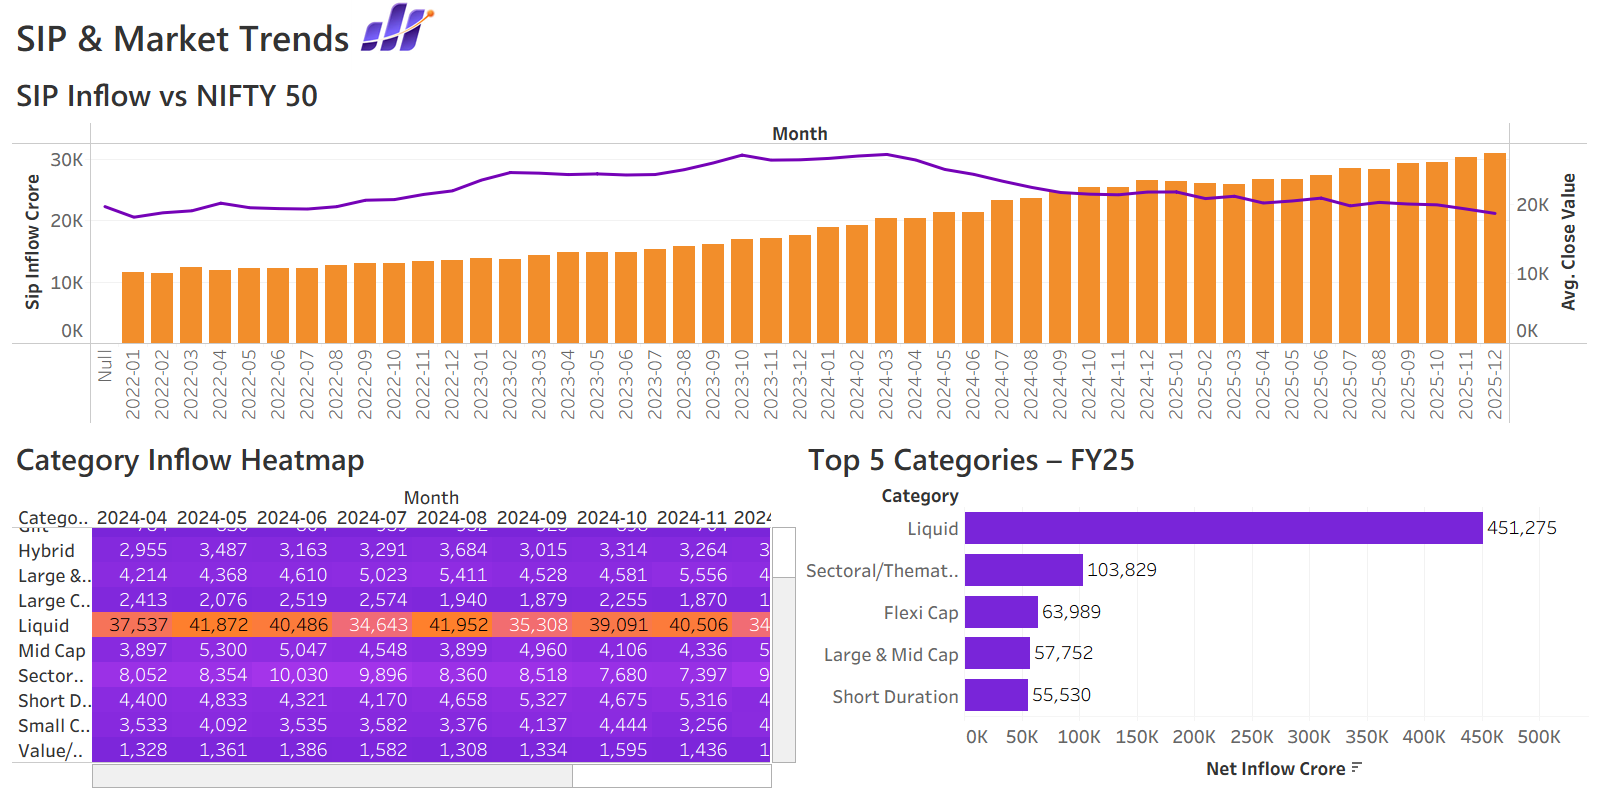

The dashboard page shown, as its layout file describes it:
{"tool":"tableau","page":{"name":"SIP & Market Trends","canvas":[1600,800],"ordinal":3},"visuals":[{"type":"title","box":[8,8,1584,56]},{"type":"worksheet","title":"SIP Inflow vs NIFTY 50","mark":"Automatic","rows":["sip_inflow_crore","close_value"],"cols":["month"],"box":[8,64,1584,364]},{"type":"worksheet","title":"Category Inflow Heatmap","mark":"Square","rows":["category"],"cols":["month"],"box":[8,428,792,364]},{"type":"worksheet","title":"Top 5 Categories – FY25","mark":"Bar","rows":["category"],"cols":["net_inflow_crore"],"box":[800,428,792,364]}]}

Visuals, with their boxes in screenshot pixels (x1, y1, x2, y2), scaled from the page's 1600x800 canvas onto the 1600x800 screenshot:
title: <box>8,8,1592,64</box>
"SIP Inflow vs NIFTY 50" worksheet: <box>8,64,1592,428</box>
"Category Inflow Heatmap" worksheet (Square marks): <box>8,428,800,792</box>
"Top 5 Categories – FY25" worksheet (Bar marks): <box>800,428,1592,792</box>
